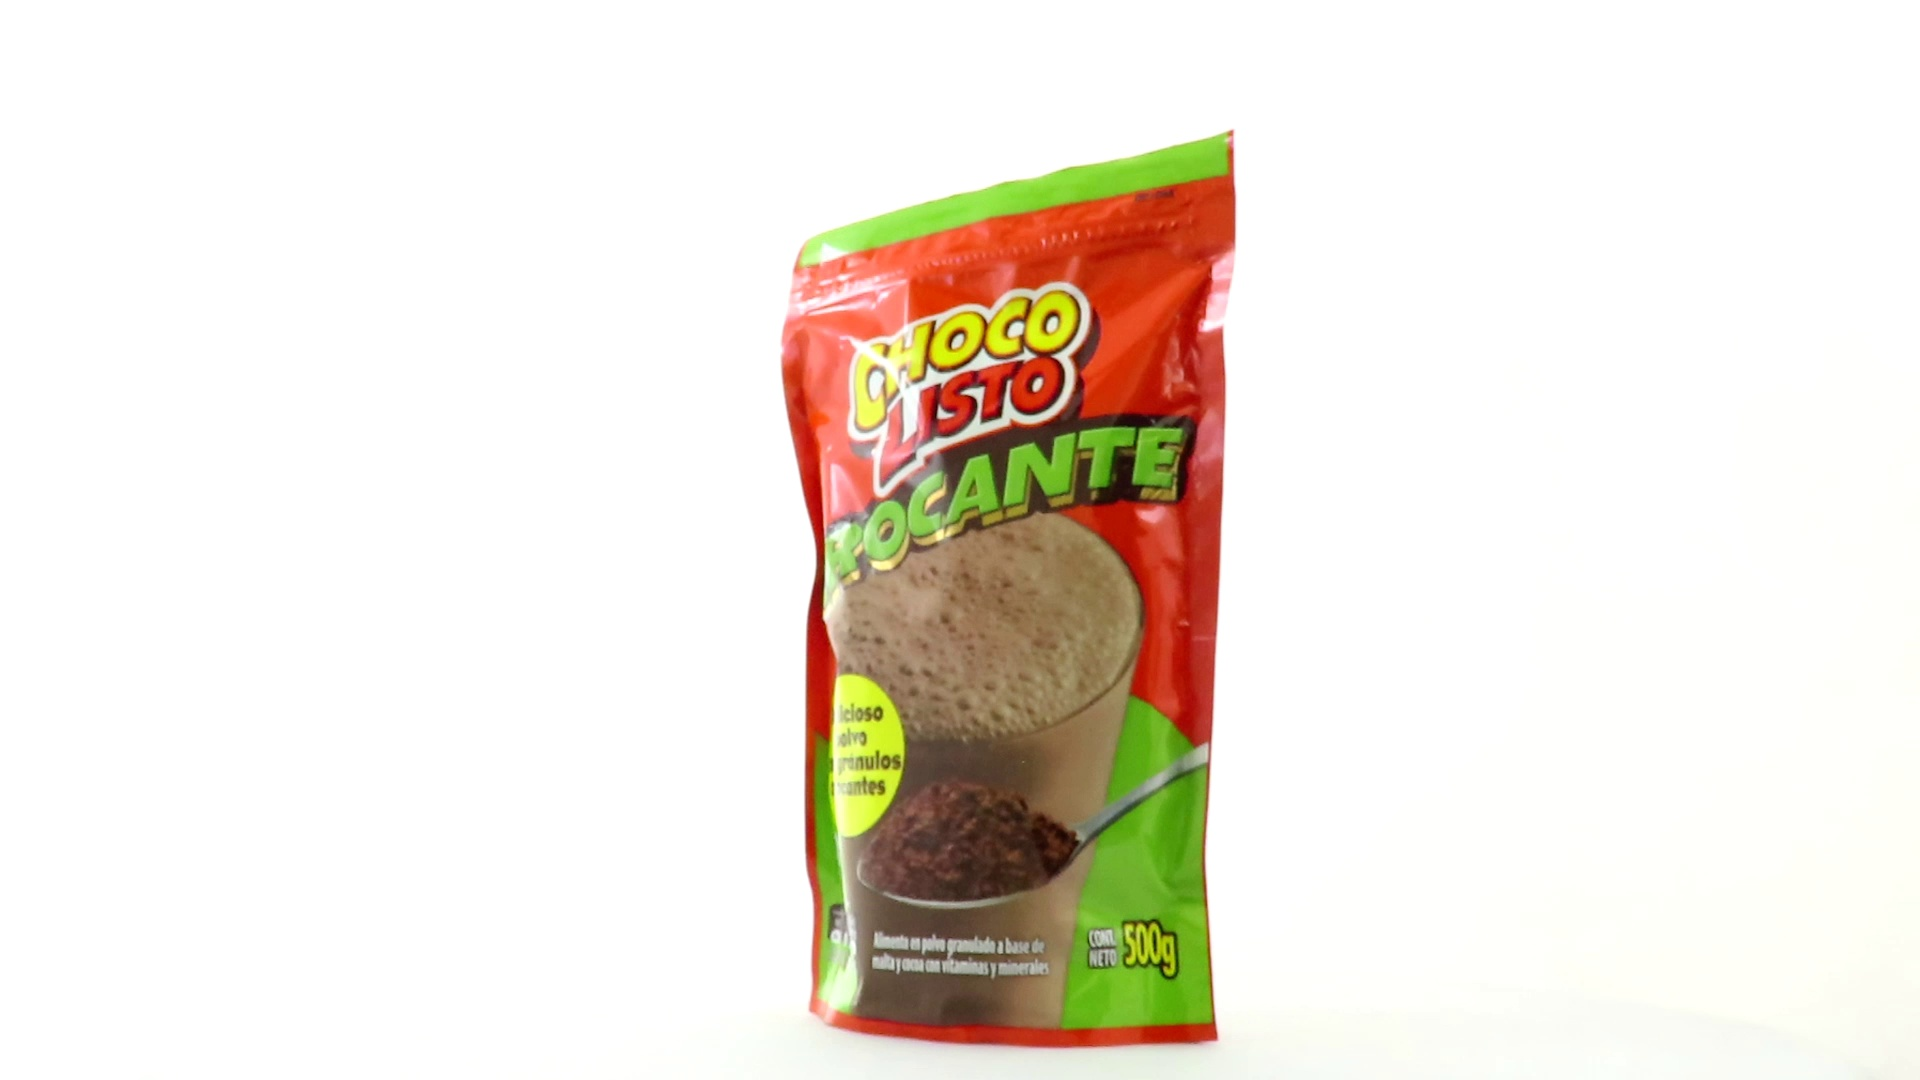COL0170102DYP50000: (775, 125, 1242, 1055)
